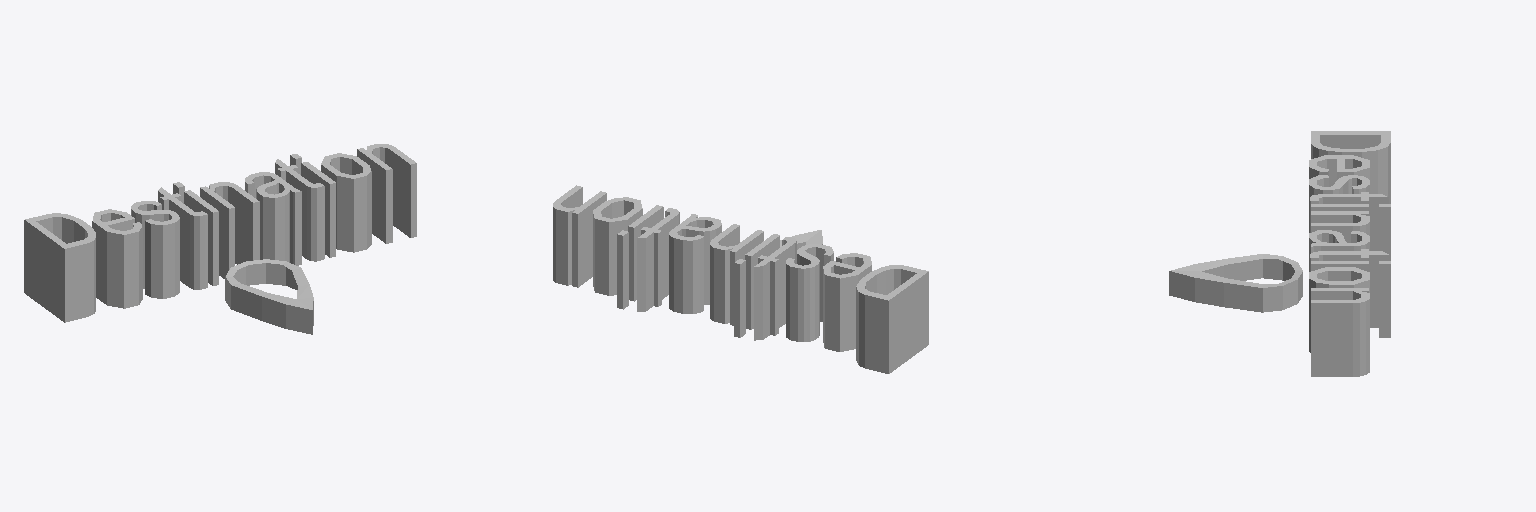
Rendered from destination.obj.
3 renders of one model, left to right at view 1: azimuth 30°, elevation 25°; view 2: azimuth 150°, elevation 25°; view 3: azimuth 270°, elevation 25°, orthographic.
Parts seen in each view (by area): view 1: Text, Cylinder01; view 2: Text; view 3: Text, Cylinder01.
Boxes of the visible parts, x1,y1,x2,y2 form: Text: [24, 144, 416, 322]; Cylinder01: [225, 259, 313, 334]; Text: [553, 185, 928, 373]; Text: [1309, 131, 1390, 376]; Cylinder01: [1169, 254, 1302, 312].
Size of the model in its own units: 5 by 1.05 by 2.72.